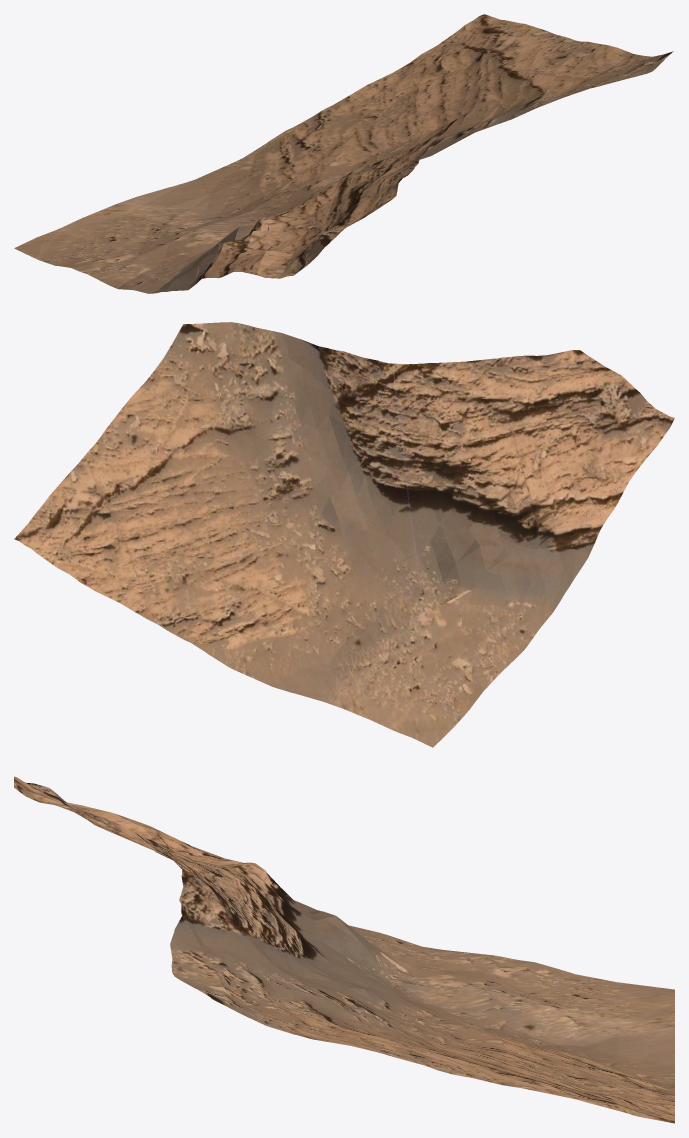
The picture shows the model from 3 angles, top to bottom: view 1: azimuth 30°, elevation 25°; view 2: azimuth 150°, elevation 25°; view 3: azimuth 270°, elevation 25°; orthographic projection. The views are drawn at different scales.
Bounding box in the file's own units: 1.04 × 0.4707 × 1.04.
2 materials, 2 textured.
